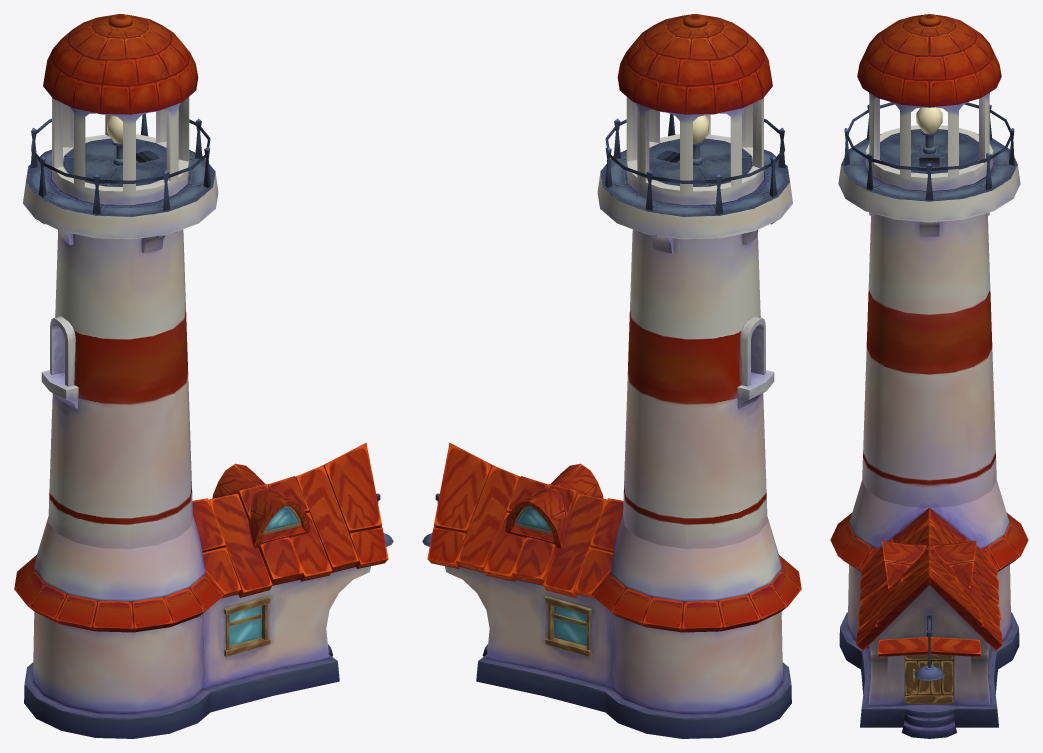
File: lighthouse.fbx
The picture shows the model from 3 angles, left to right: view 1: azimuth 30°, elevation 25°; view 2: azimuth 150°, elevation 25°; view 3: azimuth 270°, elevation 25°; orthographic projection. The views are drawn at different scales.
Parts seen in each view (by area): view 1: lighthouse.main; view 2: lighthouse.main; view 3: lighthouse.main.
Boxes of the visible parts, bbox=[...] form: lighthouse.main: bbox=[14, 14, 393, 738]; lighthouse.main: bbox=[422, 14, 801, 738]; lighthouse.main: bbox=[830, 14, 1028, 738].
Size of the model in its own units: 299 by 153 by 535.
